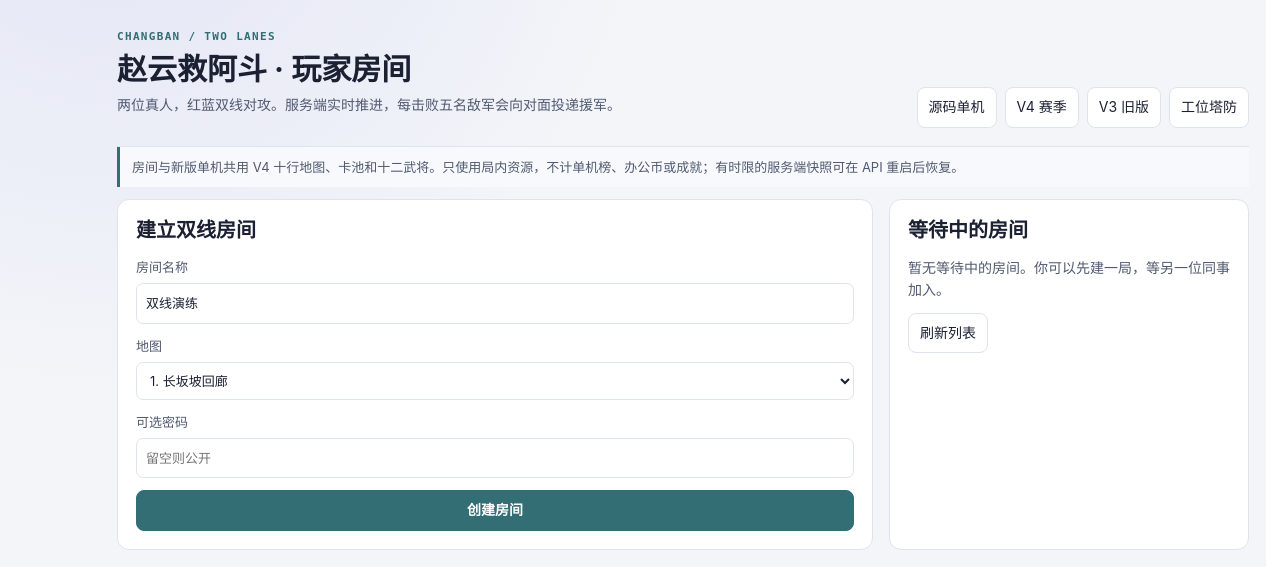
Scenario: WordFrontRoomsPage › explains the shared V4 rules and creates an optional-password room
Expected: the text "不计单机榜、办公币或成就" is shown, x1=132 y1=159 x2=964 y2=175
Expected: the button "创建房间" is shown, x1=136 y1=490 x2=854 y2=531
Replace the text in the field labelled "房间名称" with "周会守卫" at (495, 304), box x1=136 y1=283 x2=854 y2=324
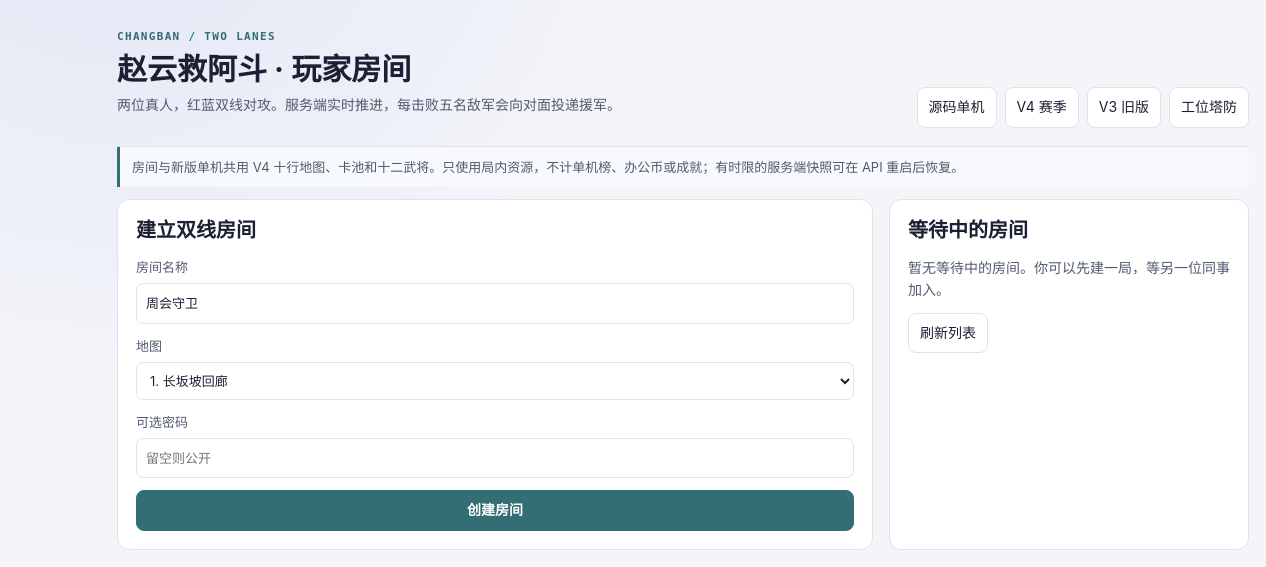
Click the button "创建房间" at (495, 511), box x1=136 y1=490 x2=854 y2=531
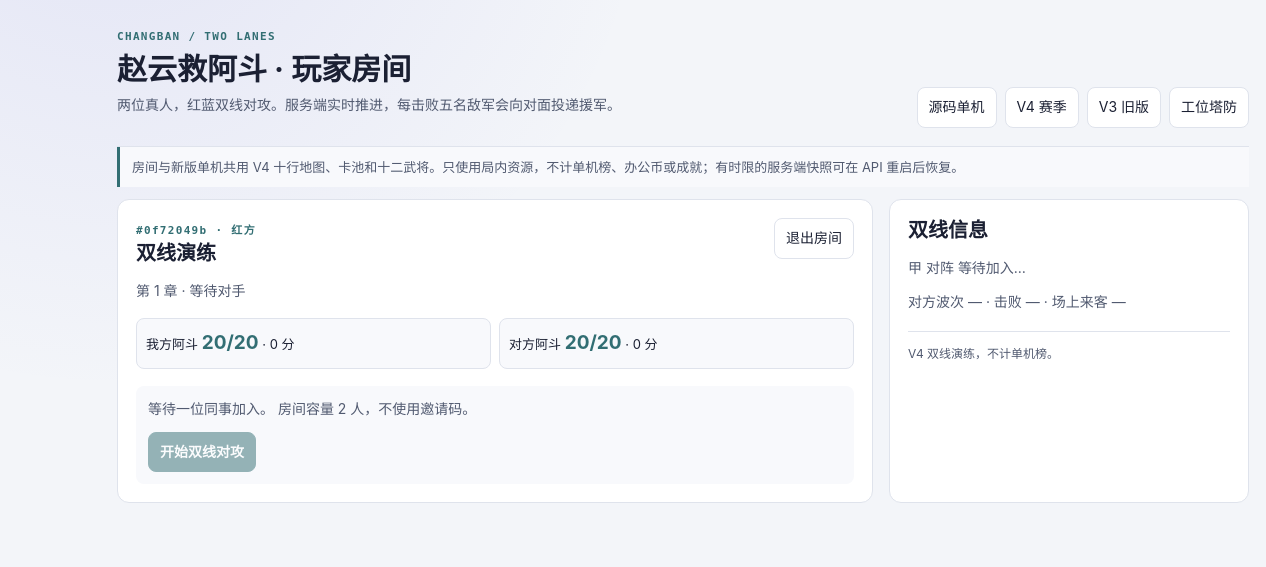
Expected: the text "等待一位同事加入。 房间容量 2 人，不使用邀请码。" is shown, x1=148 y1=400 x2=476 y2=417
